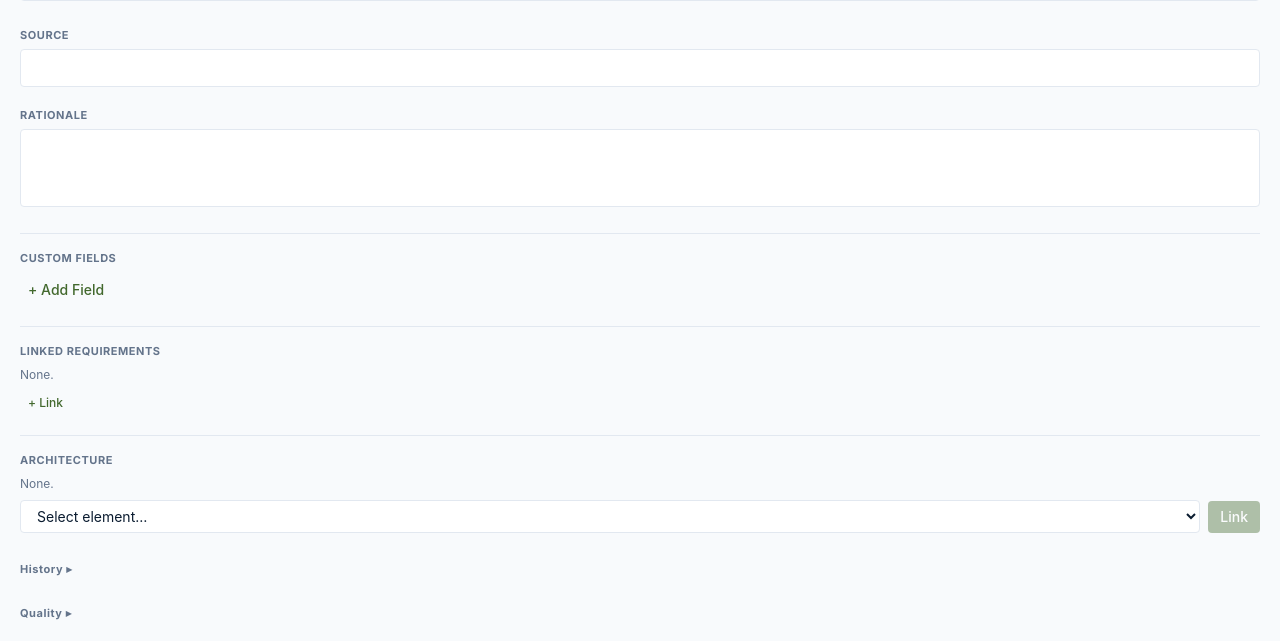
Test: RequirementDetail history timeline › renders grouped history events with author and field labels
(page scrolled)
Step 1. Click the button "History ▸" → [46, 569], box [20, 561, 72, 577]
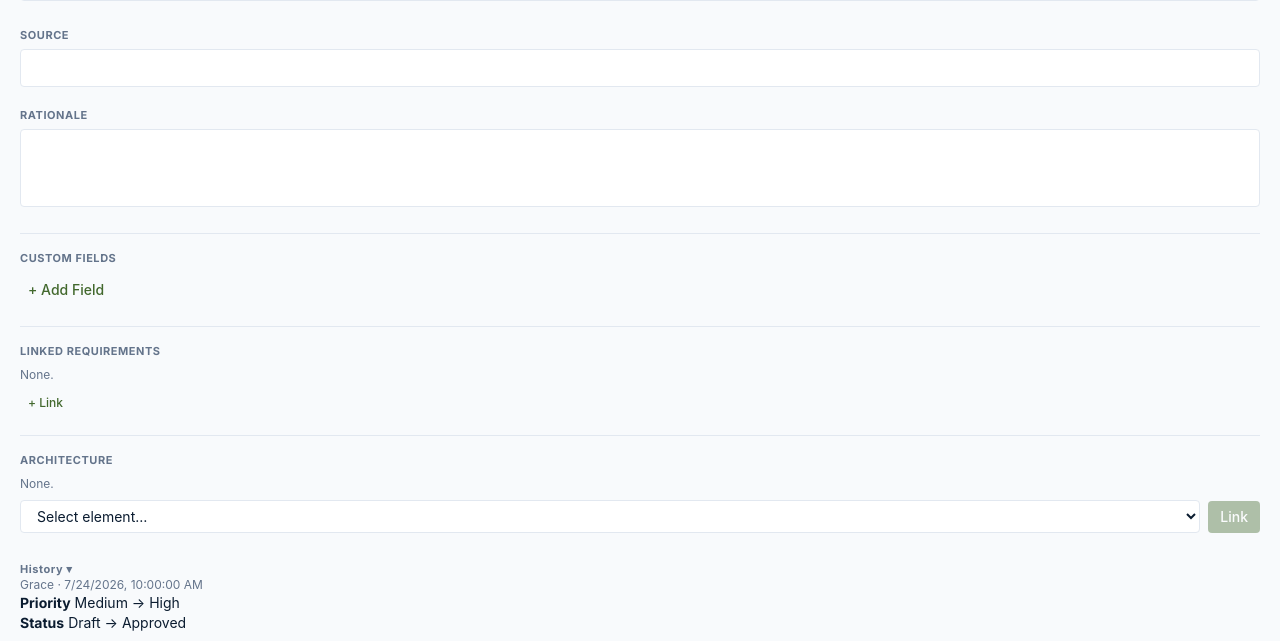
Expected: the text "Status" shows "Draft → Approved", [20, 614, 186, 631]
Expected: the text "Priority" shows "Medium → High", [20, 594, 180, 611]
Expected: the text "Grace · 7/24/2026, 10:00:00 AM" is shown, [20, 577, 203, 592]
